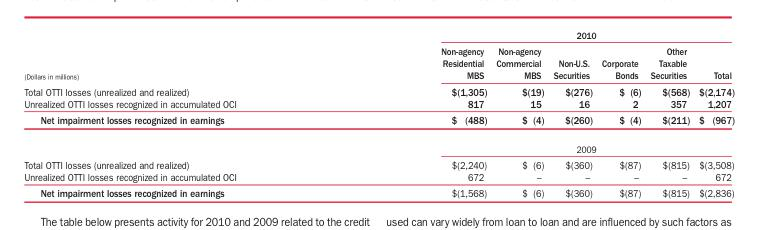table: (23, 29, 733, 198)
table column: (23, 29, 338, 198), (338, 29, 490, 198), (490, 29, 548, 198), (596, 29, 645, 198), (548, 29, 596, 198), (645, 29, 693, 198), (693, 29, 733, 198)
table column header: (23, 29, 733, 83)
table row: (23, 42, 733, 83), (23, 111, 733, 134), (23, 134, 733, 156), (23, 83, 733, 97), (23, 97, 733, 111), (23, 156, 733, 170), (23, 170, 733, 184), (23, 184, 733, 198), (23, 29, 733, 42)
table spanning cell: (23, 29, 338, 83), (338, 134, 733, 156), (338, 29, 733, 42)
